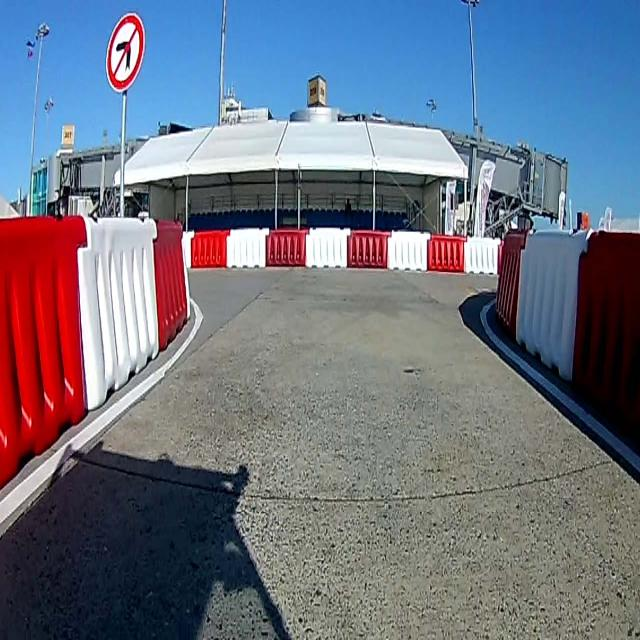soladonulmez: (104, 12, 146, 96)
